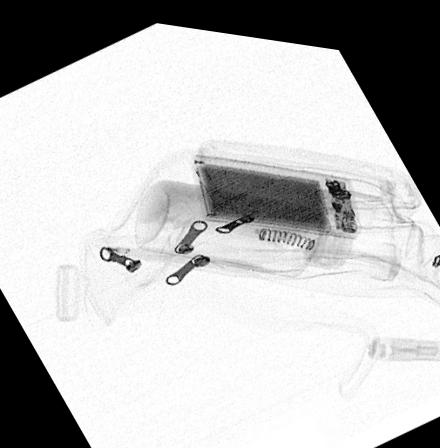Powerbank: (192, 149, 363, 229)
